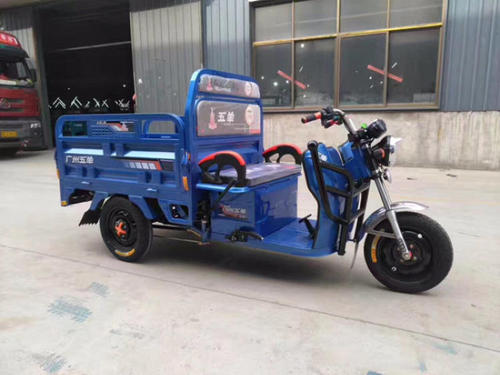tricycle: (42, 66, 466, 303)
